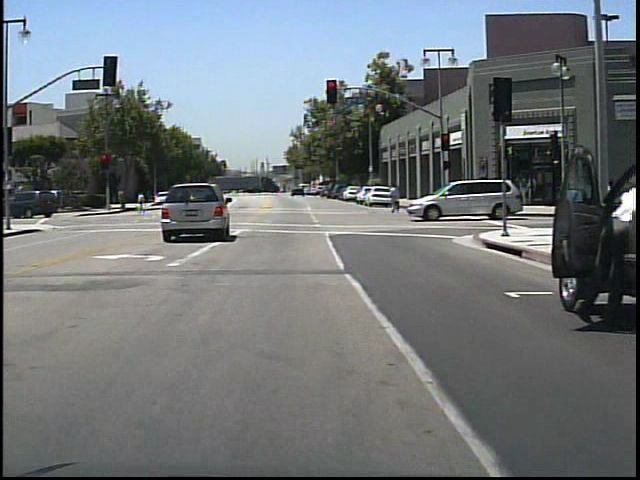person: (387, 182, 406, 217), (136, 190, 152, 217)
